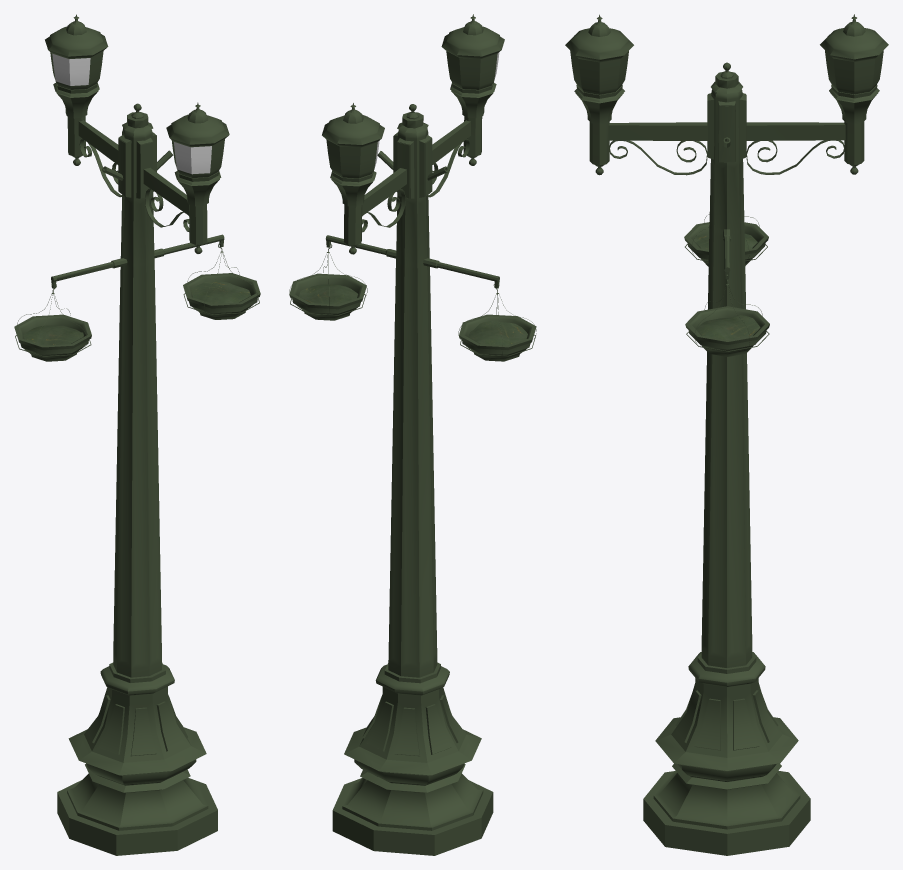
File: Luz.obj
3 views of the same model, side by side, from view 1: azimuth 30°, elevation 25°; view 2: azimuth 150°, elevation 25°; view 3: azimuth 270°, elevation 25° (orthographic). The views are drawn at different scales.
Parts seen in each view (by area): view 1: Streetlight_LowRes; view 2: Streetlight_LowRes; view 3: Streetlight_LowRes.
Boxes of the visible parts, x1,y1,x2,y2 form: Streetlight_LowRes: (14, 14, 260, 855); Streetlight_LowRes: (289, 14, 536, 855); Streetlight_LowRes: (565, 14, 888, 855).
Bounding box in the file's own units: 128 × 391 × 142.
Materials: 2 (1 with a texture image).
